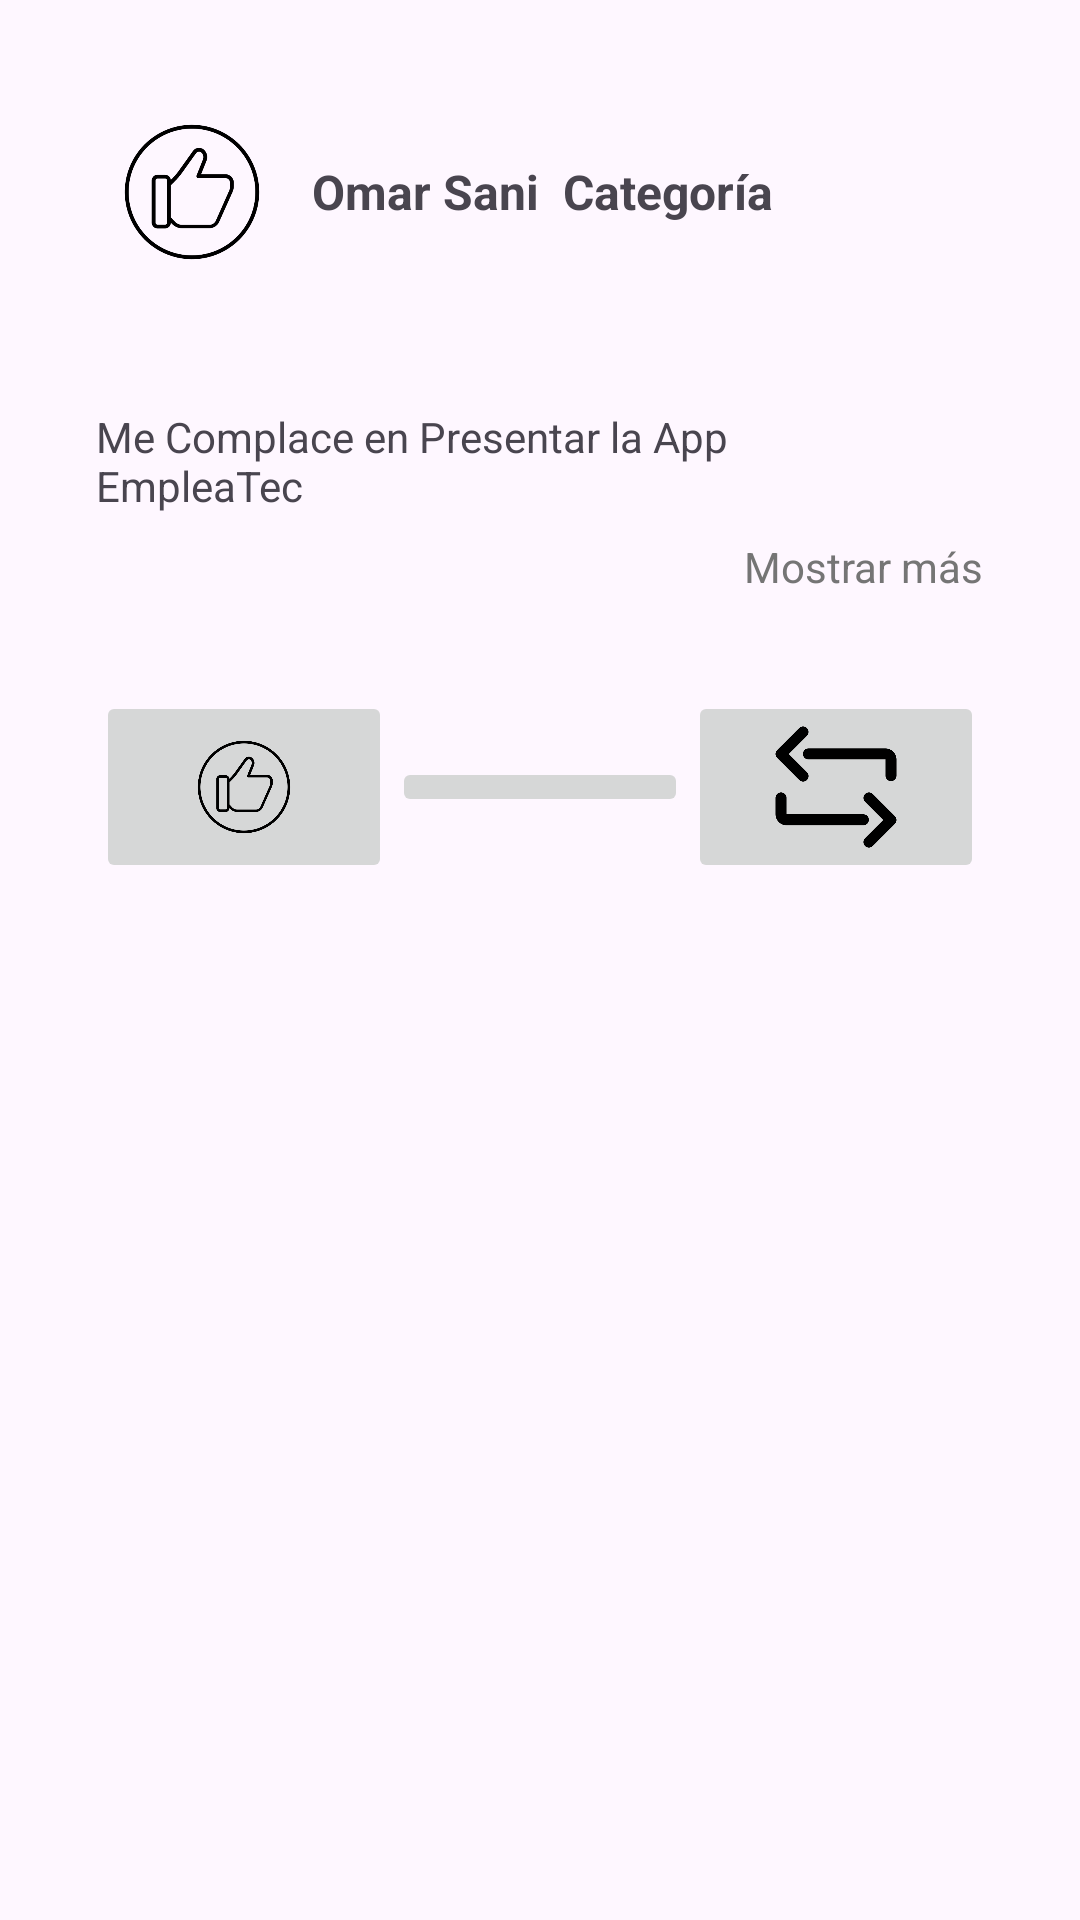

Point at icon controls on the screen. Image size 1080x1920, points as point (x, y).
Compartir: point (836, 787)
like: point (192, 192), point (244, 787)
